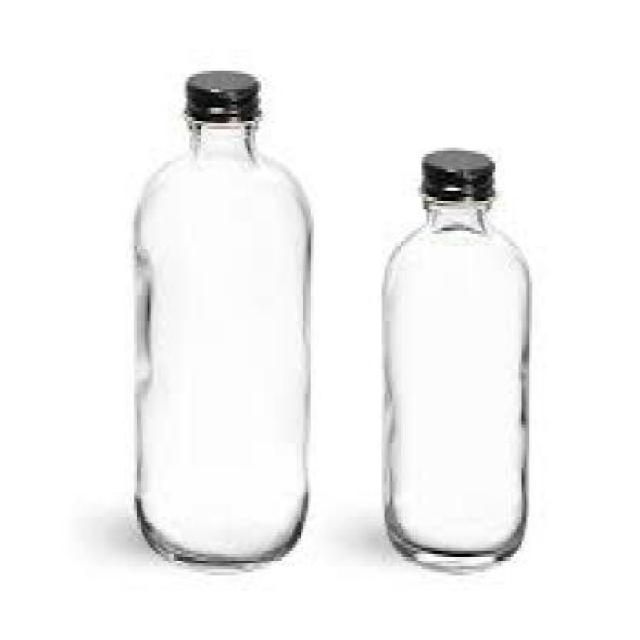kaca: (134, 111, 303, 560), (382, 188, 524, 566)
